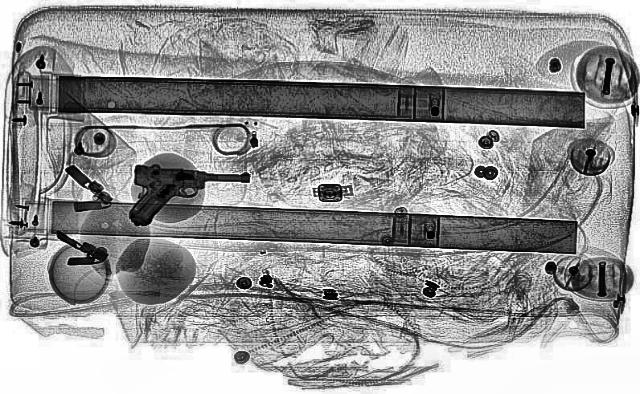Gun: (122, 164, 252, 230)
